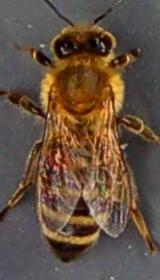varroa_mite: (47, 143, 68, 167)
